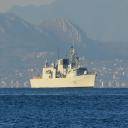Fragata: (30, 32, 98, 91)
